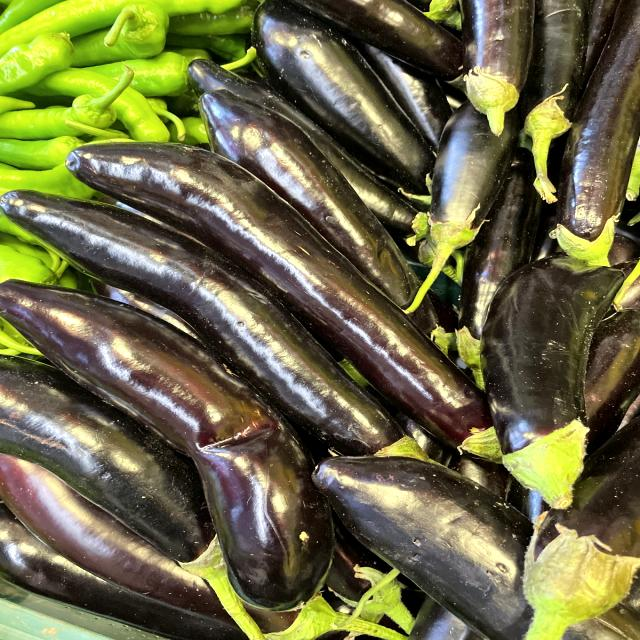eggplant: (65, 138, 511, 463), (2, 277, 338, 613), (475, 242, 633, 513), (404, 103, 532, 312), (453, 0, 544, 141)
